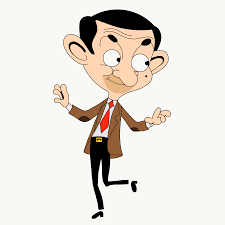mrbean: (44, 10, 167, 218)
